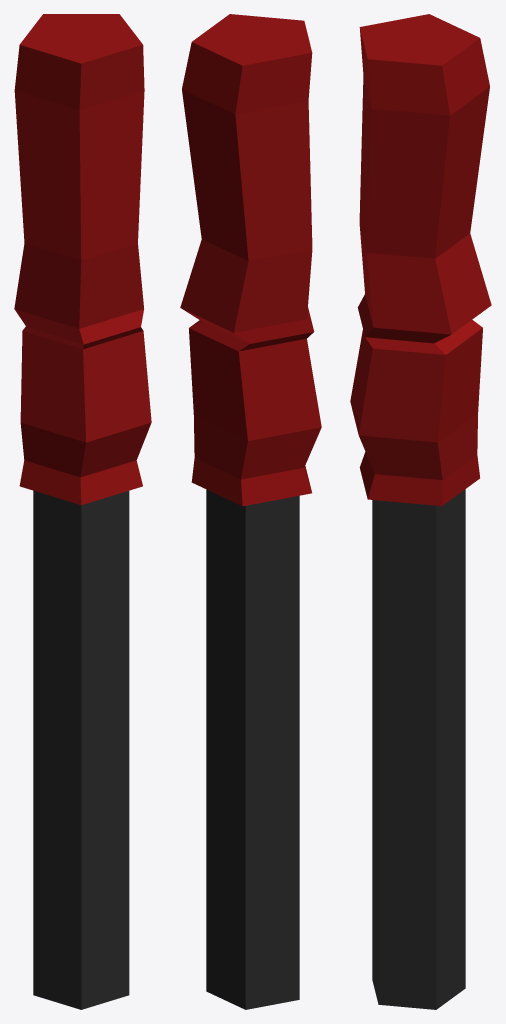
The model's file is Pipe03.dae.
3 views of the same model, side by side, from view 1: azimuth 90°, elevation 25°; view 2: azimuth 150°, elevation 25°; view 3: azimuth 330°, elevation 25° (orthographic).
Visible parts, largest first — view 1: pCylinder43, pCylinder42; view 2: pCylinder43, pCylinder42; view 3: pCylinder43, pCylinder42.
Part boxes in pixels (<box>): pCylinder43: <box>14,14,151,505</box>; pCylinder42: <box>33,490,129,1009</box>; pCylinder43: <box>180,14,321,506</box>; pCylinder42: <box>206,489,299,1009</box>; pCylinder43: <box>350,14,491,506</box>; pCylinder42: <box>372,489,465,1009</box>.
Size of the model in its own units: 0.3233 by 2.49 by 0.3249.
